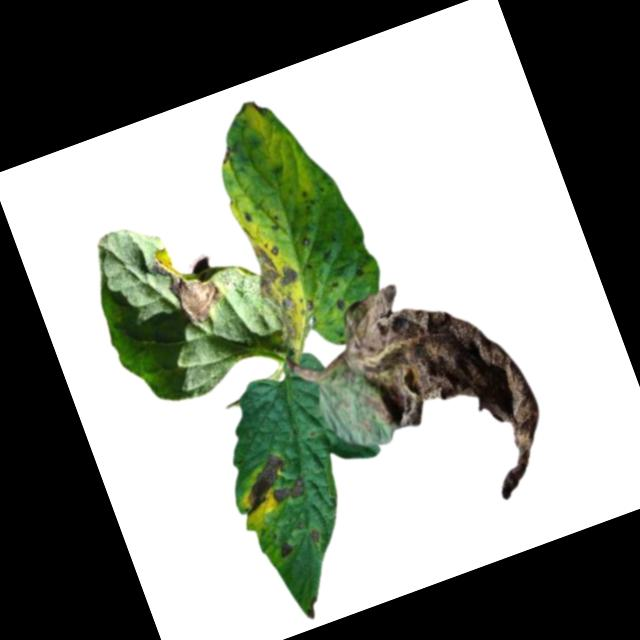Early_blight: (315, 255, 565, 539), (243, 235, 320, 350), (142, 234, 228, 336), (230, 449, 302, 520), (269, 474, 311, 508), (235, 95, 270, 126), (274, 536, 299, 562), (347, 264, 370, 284), (308, 527, 326, 546)
